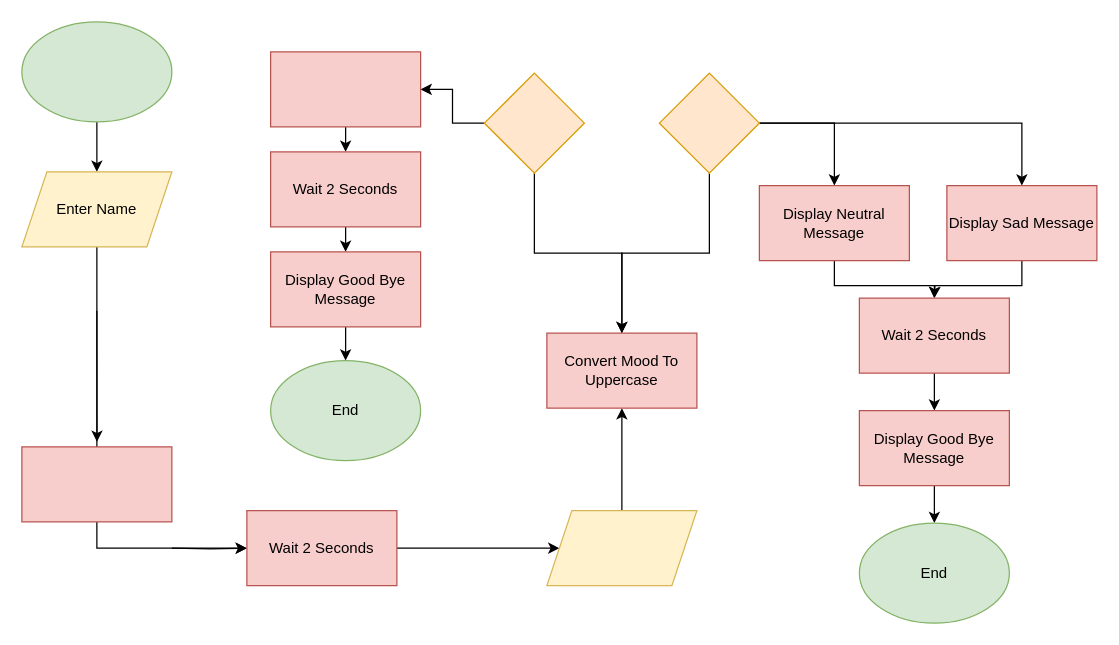
This 1119x645 diagram has some shape labels left out. Each missing label, with the centre of its shape:
"Display Greeting Message" belongs at point (96, 484).
"Display Positive Message" belongs at point (345, 89).
"Enter Mood (Good/Bad)" belongs at point (621, 547).
"Mood == BAD?" belongs at point (708, 122).
"Mood == GOOD?" belongs at point (533, 122).
"Start" belongs at point (96, 71).
